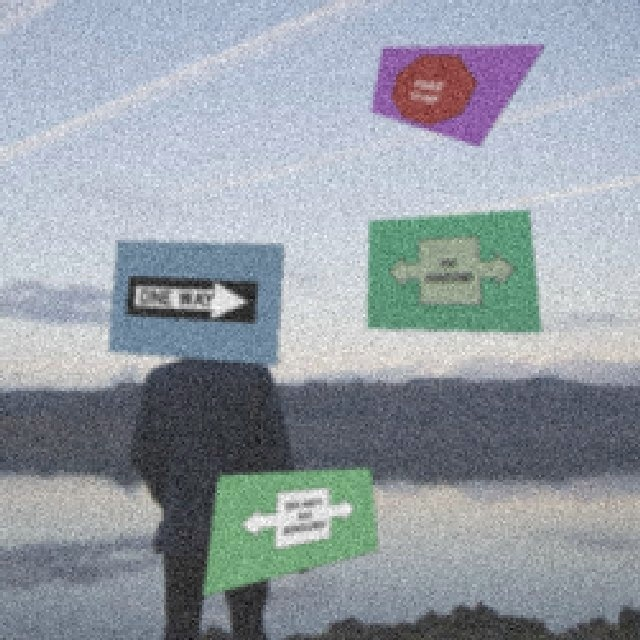DO_NOT_GO_AROUND: (233, 482, 361, 556)
FAKE_STOP: (379, 42, 490, 134)
GO_AROUND: (386, 233, 517, 304)
ONE_WAY_ right: (123, 270, 258, 323)
